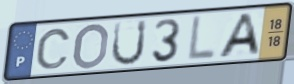3: (150, 17, 182, 64)
A: (215, 12, 263, 60)
C: (35, 27, 73, 71)
L: (184, 13, 218, 63)
O: (71, 22, 111, 71)
U: (109, 18, 149, 68)
